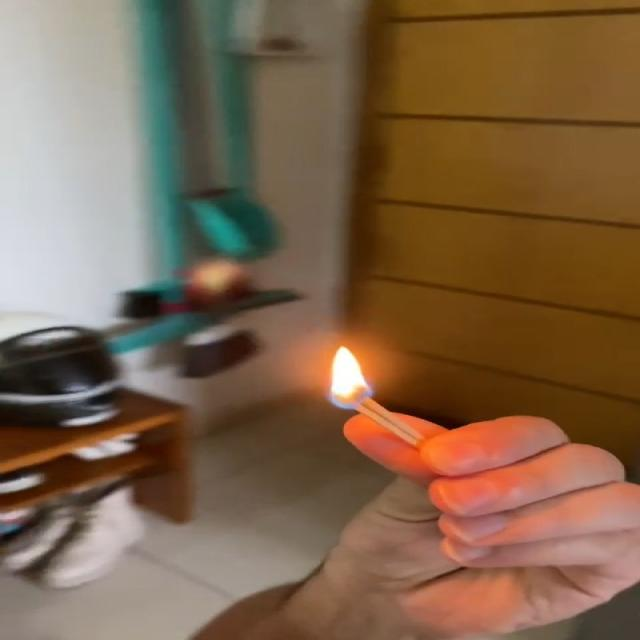fogo-ypXI: (324, 344, 374, 412)
